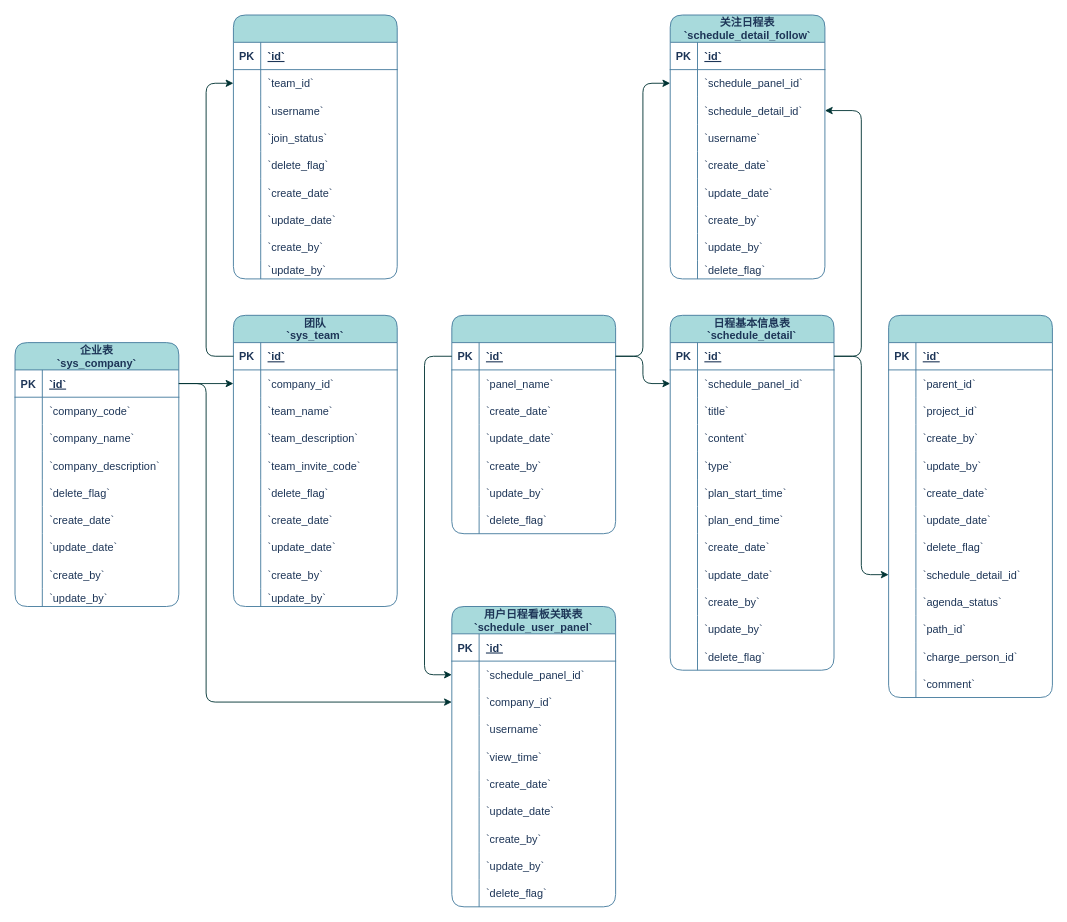
This 1067x922 diagram has some shape labels left out. Here are the shapes that lost their labels. From the top down, the box of each, then its label:
(233, 14, 397, 279): 团队成员 `sys_team_member`
(451, 314, 616, 534): 日程看板 `schedule_panel`
(888, 314, 1052, 698): 日程事项表 `agenda`
